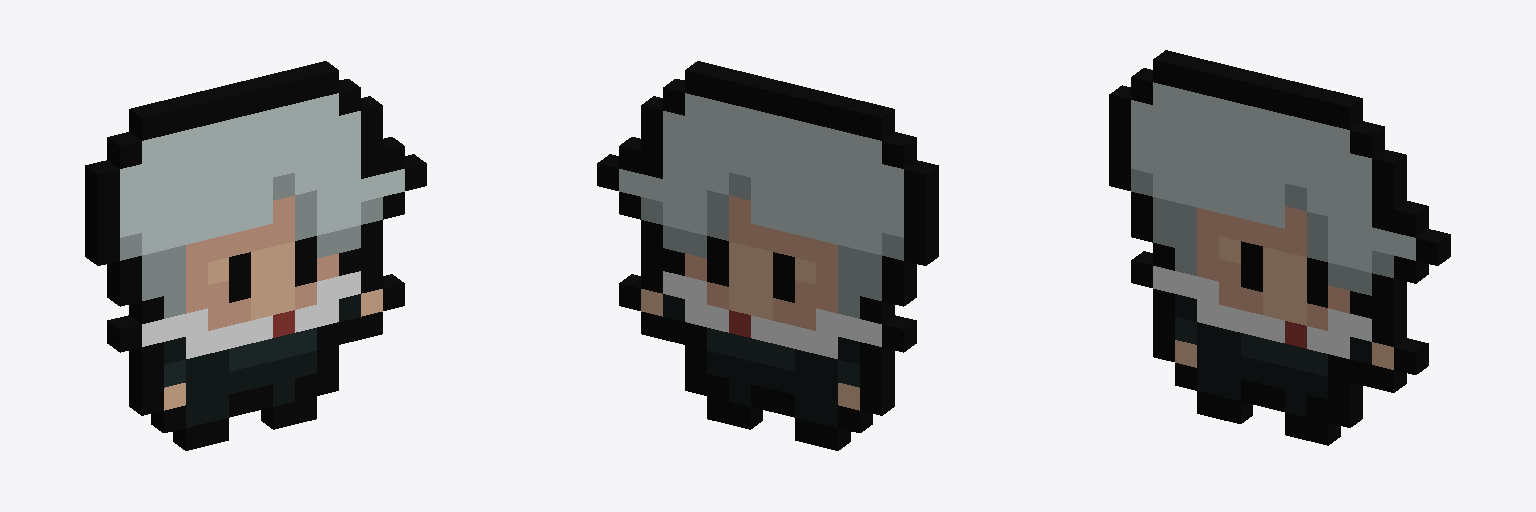
3 views of the same model, side by side, from view 1: azimuth 30°, elevation 25°; view 2: azimuth 150°, elevation 25°; view 3: azimuth 330°, elevation 25° (orthographic).
Parts seen in each view (by area): view 1: object 1; view 2: object 1; view 3: object 1.
Boxes of the visible parts, <box> form: object 1: <box>85,61,426,450</box>; object 1: <box>597,61,938,450</box>; object 1: <box>1109,50,1450,445</box>.
Bounding box in the file's own units: 1.5 × 1.5 × 0.1.
1 materials, 1 textured.